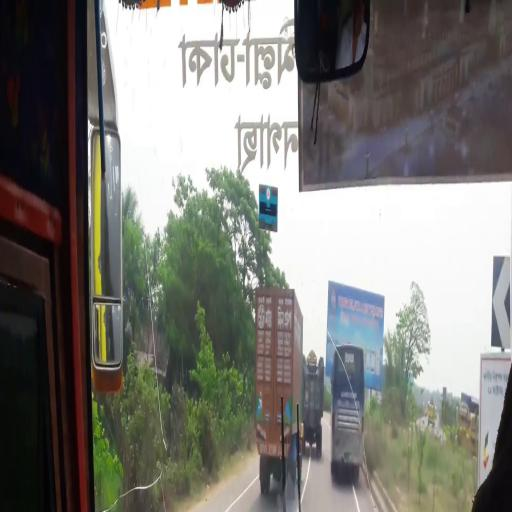bus: (332, 346, 365, 477)
truck: (256, 290, 304, 492), (304, 352, 324, 455), (459, 401, 478, 453), (428, 398, 436, 425)
